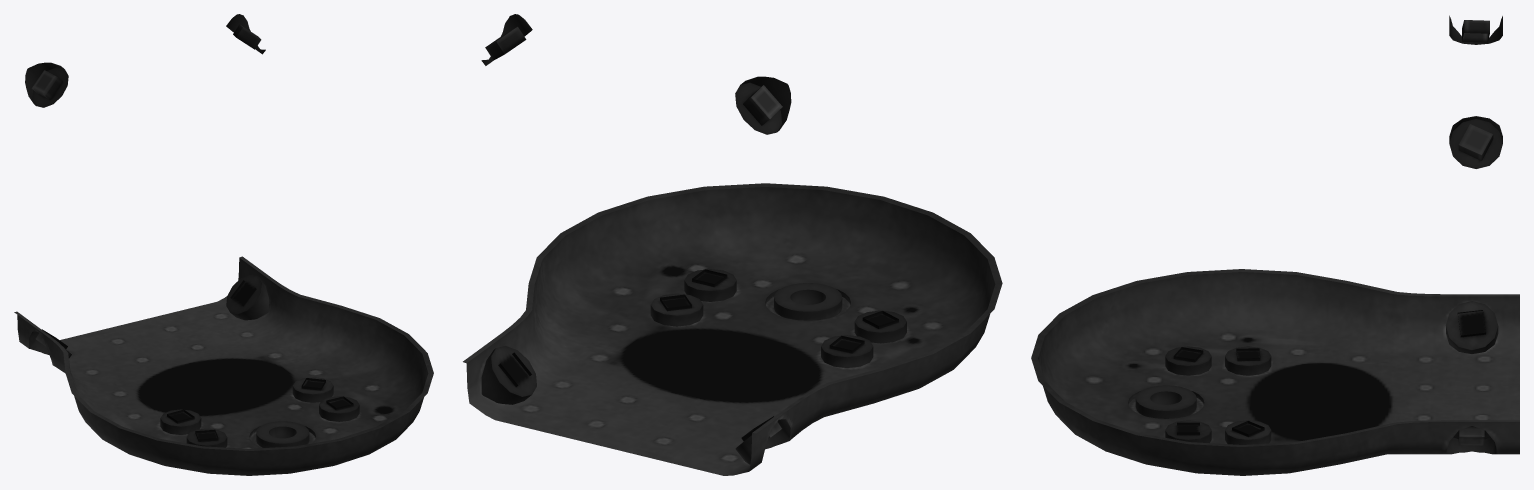
File: 1.25m_Firebox1_Backhead.obj
The picture shows the model from 3 angles, left to right: view 1: azimuth 30°, elevation 25°; view 2: azimuth 150°, elevation 25°; view 3: azimuth 270°, elevation 25°; orthographic projection. The views are drawn at different scales.
Visible parts, largest first — view 1: Firebox_Vessel_Original; view 2: Firebox_Vessel_Original; view 3: Firebox_Vessel_Original.
Part boxes in pixels (x1,y1,x2,y2): Firebox_Vessel_Original: [14, 14, 433, 475]; Firebox_Vessel_Original: [463, 14, 1002, 475]; Firebox_Vessel_Original: [1031, 15, 1519, 475].
Size of the model in its own units: 1.24 by 1.12 by 1.43.
